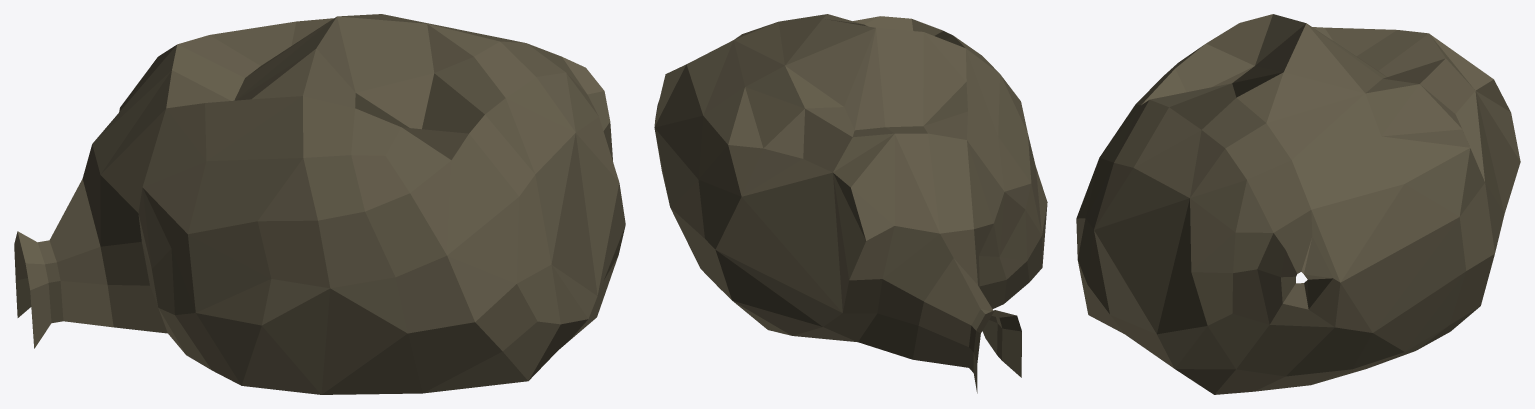
The model's file is replaceTerraom.fbx.
3 renders of one model, left to right at view 1: azimuth 30°, elevation 25°; view 2: azimuth 150°, elevation 25°; view 3: azimuth 270°, elevation 25°, orthographic. The views are drawn at different scales.
Parts seen in each view (by area): view 1: Dome-2exits-03; view 2: Dome-2exits-03; view 3: Dome-2exits-03.
Boxes of the visible parts, bbox=[...] form: Dome-2exits-03: bbox=[14, 14, 625, 394]; Dome-2exits-03: bbox=[654, 14, 1047, 393]; Dome-2exits-03: bbox=[1076, 14, 1520, 394].
Size of the model in its own units: 2060 by 1268 by 1746.
